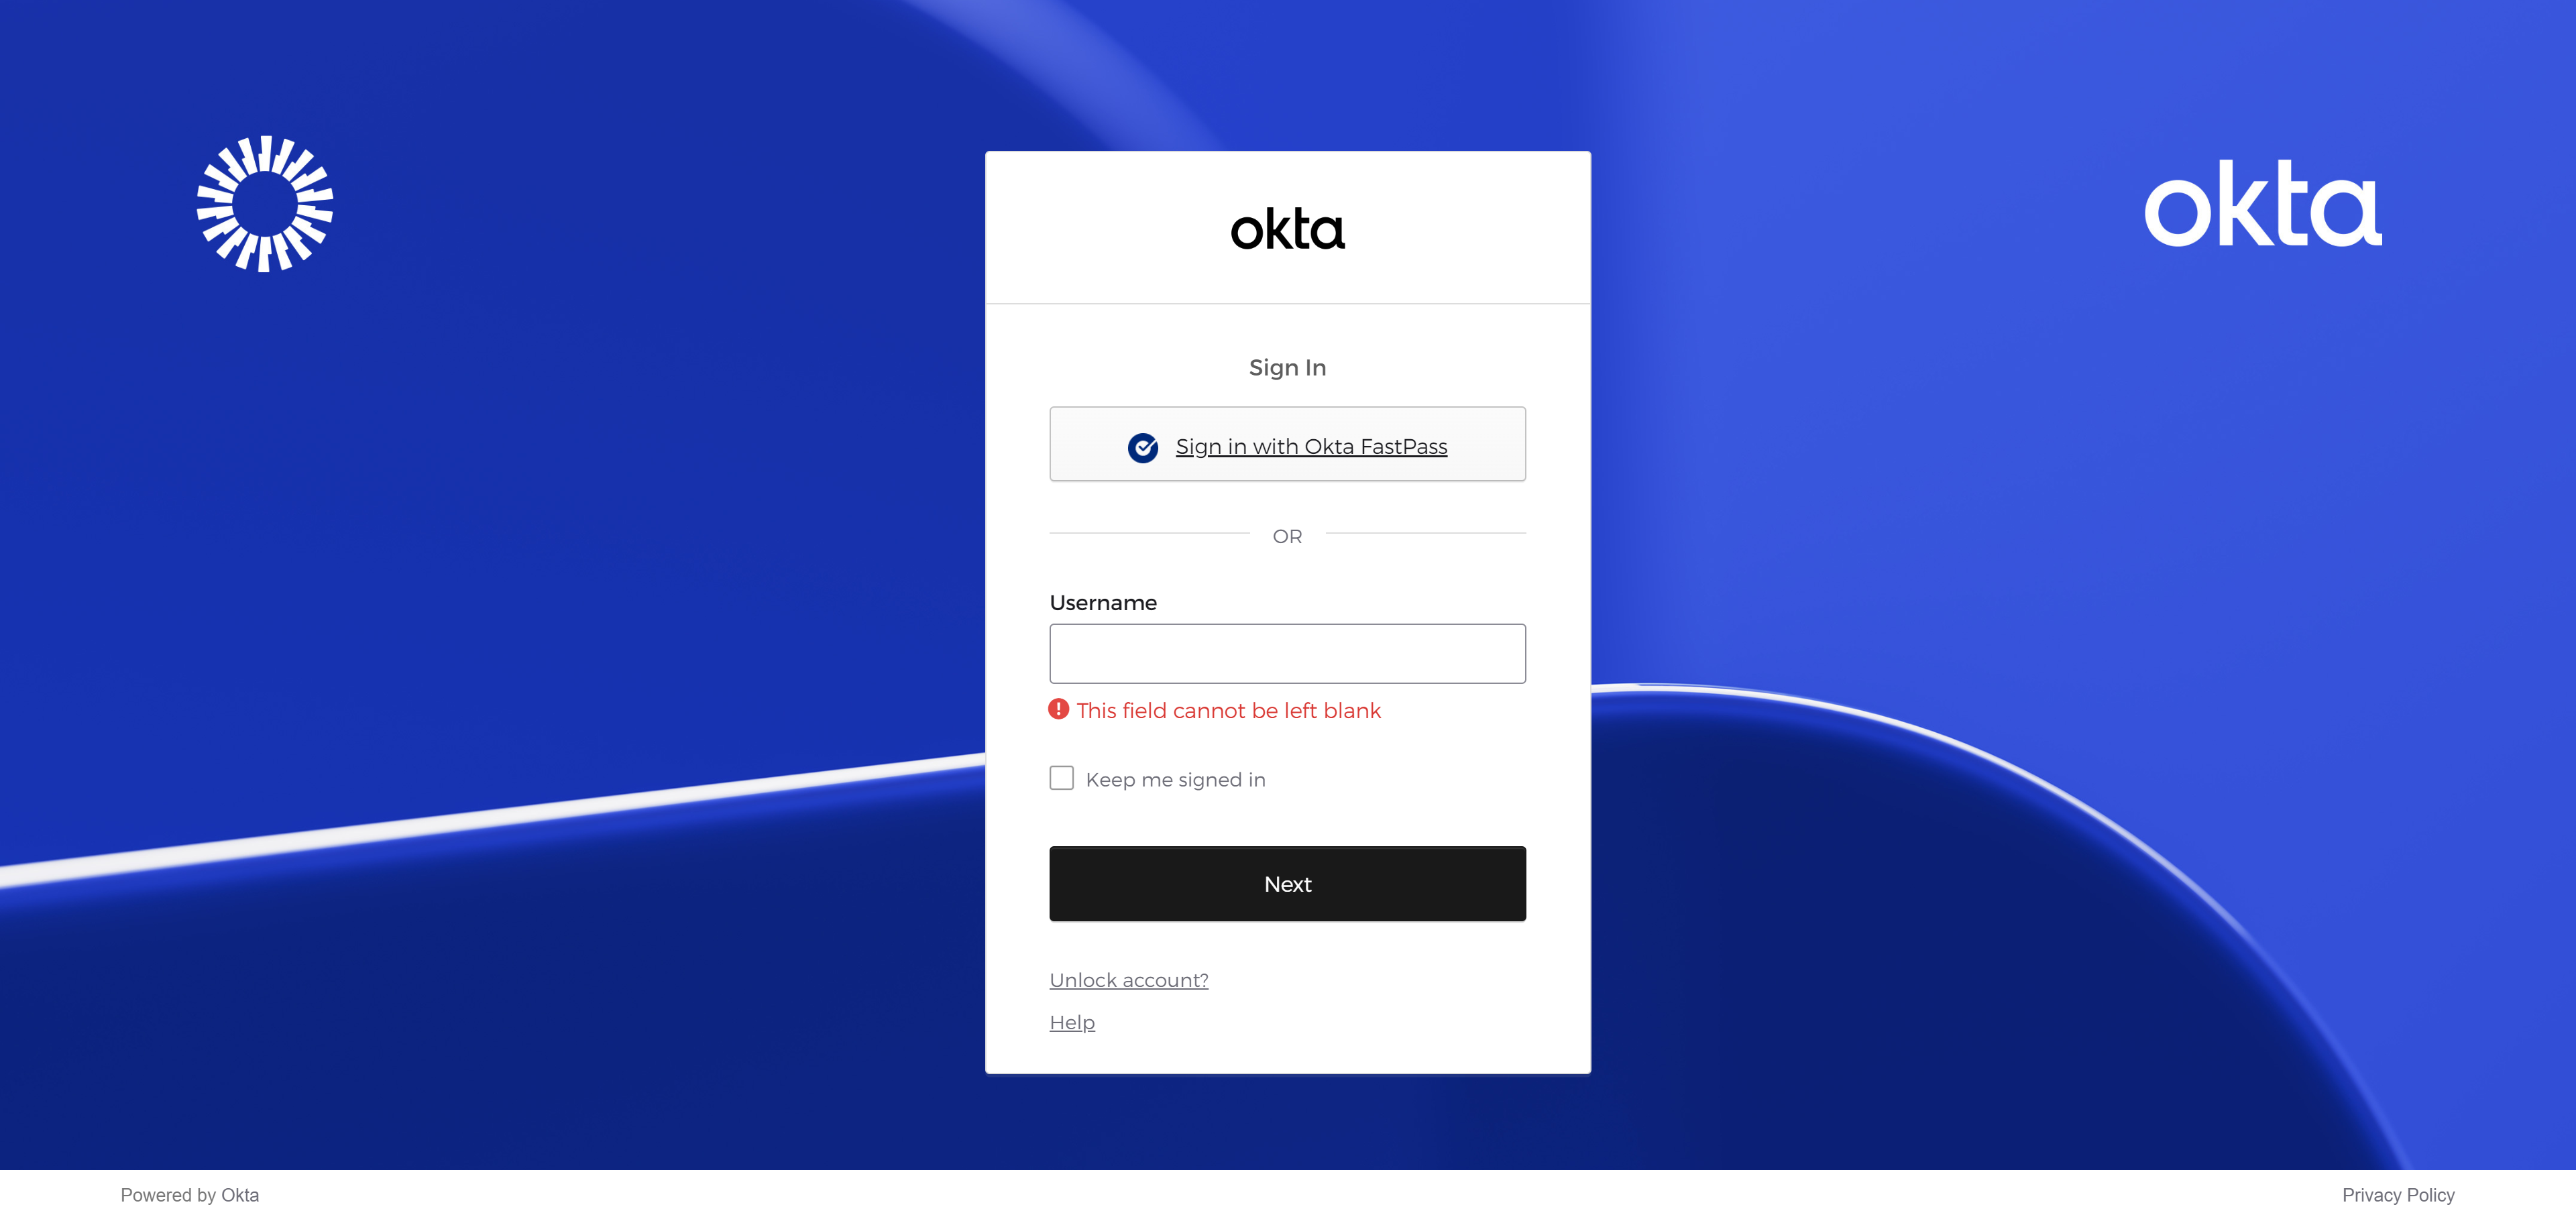login_button: (1048, 845, 1528, 920)
login_form: (1040, 588, 1536, 932)
